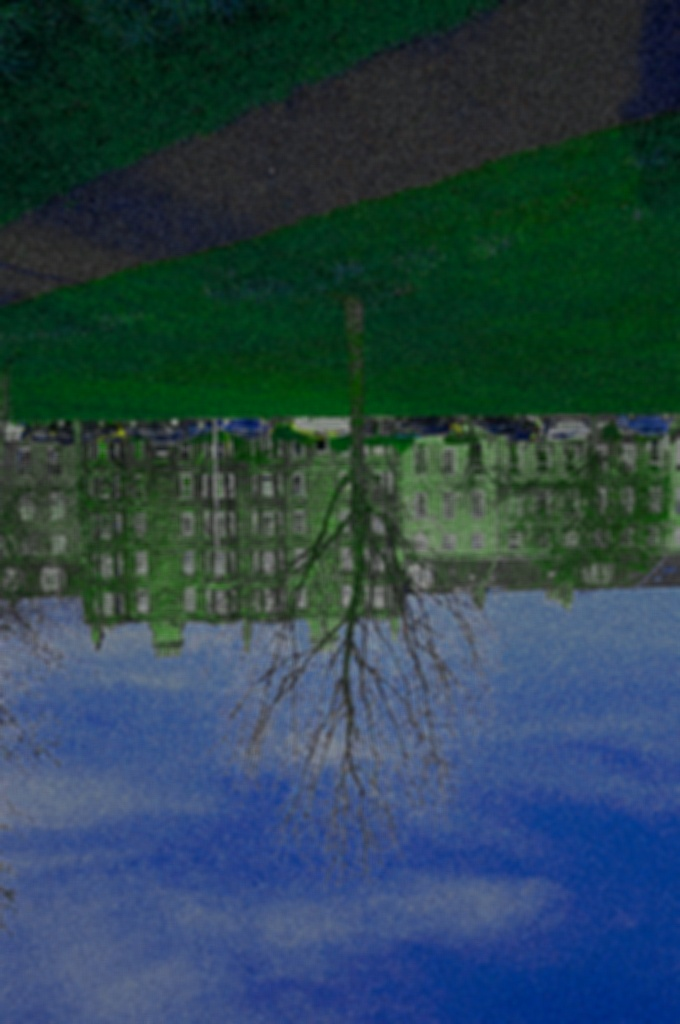Tree: (174, 250, 528, 923), (513, 392, 675, 592), (28, 410, 148, 623)
